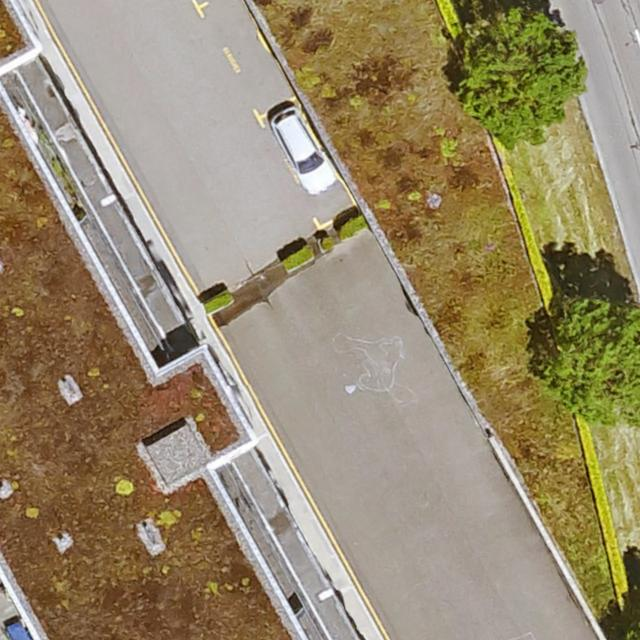tree: (458, 10, 589, 151), (539, 300, 640, 425), (628, 623, 640, 640)
